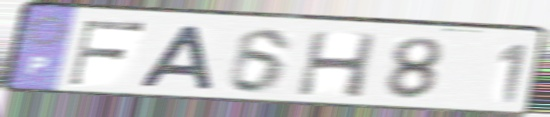1: (495, 42, 529, 104)
6: (224, 27, 297, 95)
8: (384, 35, 448, 101)
A: (135, 23, 217, 93)
F: (65, 19, 150, 88)
H: (293, 29, 382, 100)
